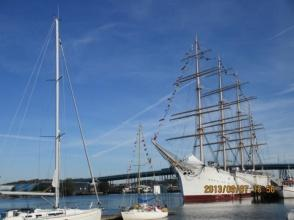fanchuan: (1, 26, 102, 218), (173, 42, 276, 207), (119, 125, 170, 219)
